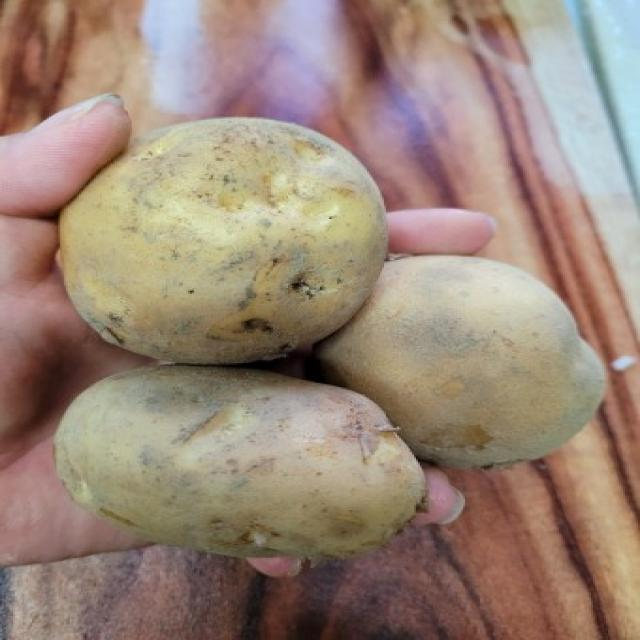Potato: (52, 112, 394, 364), (46, 360, 434, 560), (302, 248, 612, 482)
